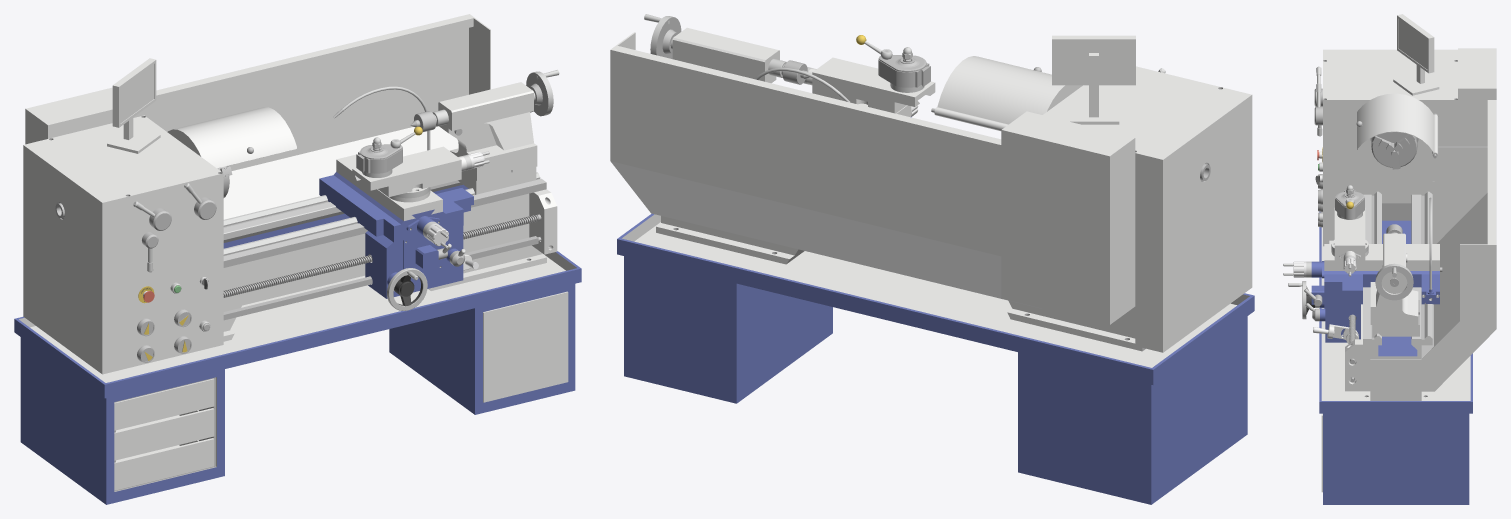
File: lathe separate2.fbx
The picture shows the model from 3 angles, left to right: view 1: azimuth 30°, elevation 25°; view 2: azimuth 150°, elevation 25°; view 3: azimuth 270°, elevation 25°; orthographic projection. The views are drawn at different scales.
Parts seen in each view (by area): view 1: machine; view 2: machine; view 3: machine, three-jaw chuck.
Part boxes in pixels (x1,y1,x2,y2): machine: (14,14,581,504); machine: (610,14,1254,504); machine: (1283,14,1496,504); three-jaw chuck: (1371,132,1417,169).
Size of the model in its own units: 191 by 137 by 83.1.
